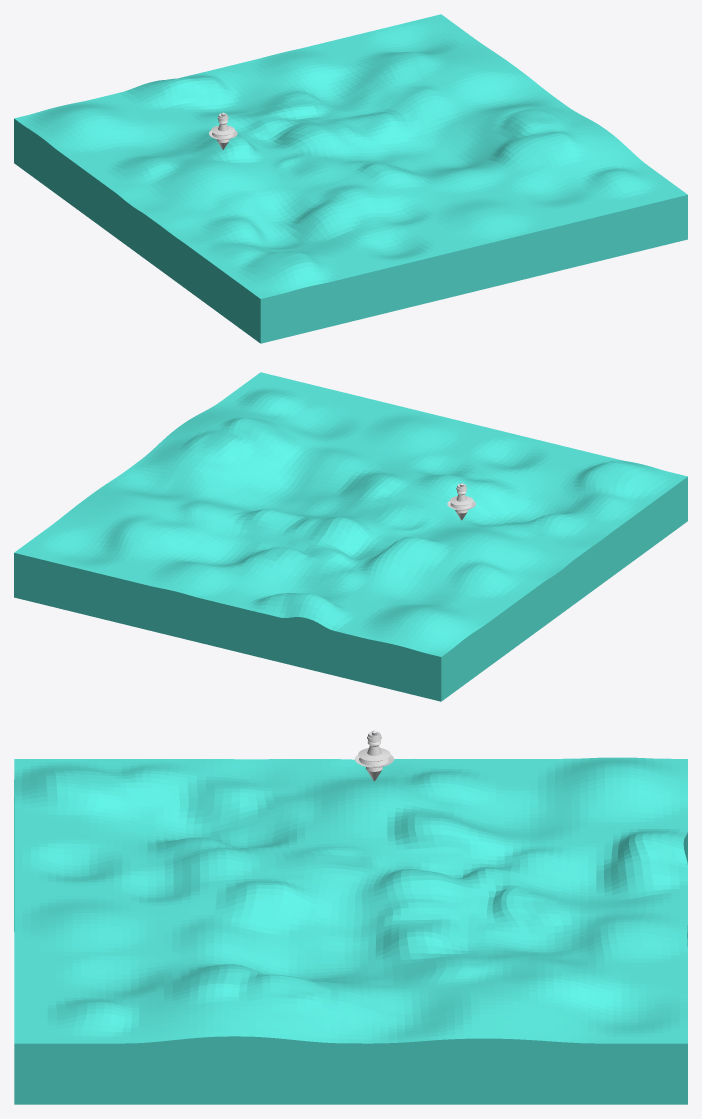
The model's file is MapDune.fbx.
3 views of the same model, one above another, from view 1: azimuth 30°, elevation 25°; view 2: azimuth 150°, elevation 25°; view 3: azimuth 270°, elevation 25° (orthographic). The views are drawn at different scales.
Parts seen in each view (by area): view 1: Cube, Cylinder; view 2: Cube, Cylinder; view 3: Cube, Cylinder.
Part boxes in pixels (box(x1,y1,x2,y2)): Cube: box(14, 14, 687, 343); Cylinder: box(209, 112, 237, 149); Cube: box(14, 372, 687, 701); Cylinder: box(447, 483, 475, 520); Cube: box(14, 757, 687, 1104); Cylinder: box(355, 730, 393, 781).
Size of the model in its own units: 10007 by 2493 by 10005.
